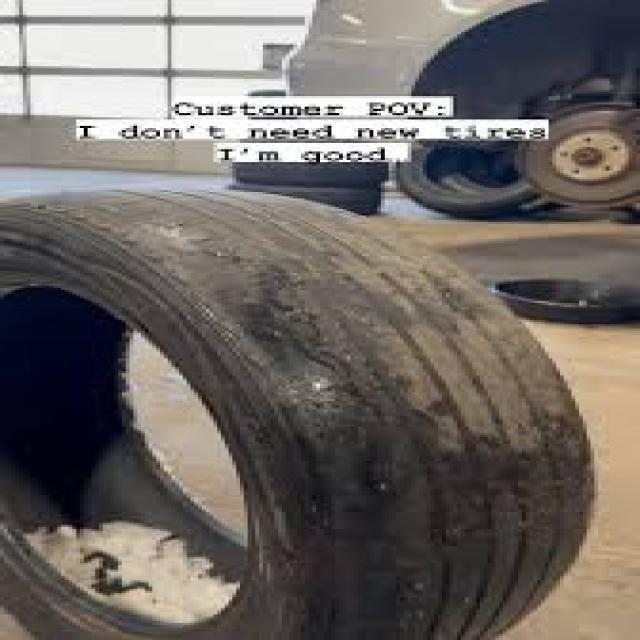Flat spots: (286, 231, 406, 634), (424, 348, 542, 626)
